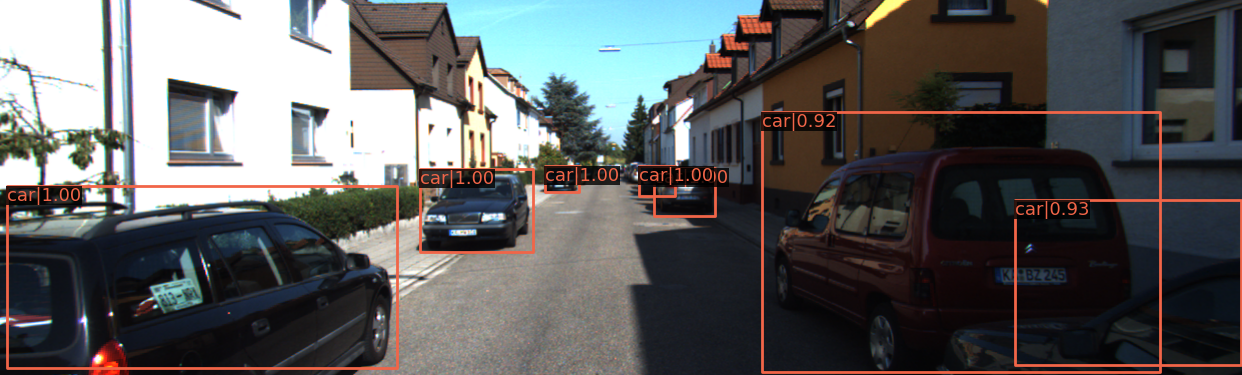car: (1, 201, 408, 375), (925, 204, 1242, 375), (424, 169, 531, 248), (655, 168, 709, 213), (640, 168, 676, 198), (545, 166, 576, 193)
